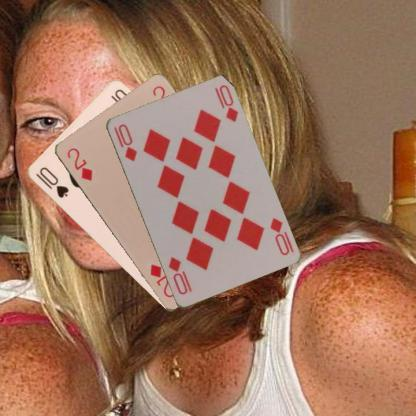10d: (267, 215, 295, 256), (111, 121, 138, 163)
10s: (36, 164, 70, 199)
2d: (64, 145, 94, 183)
